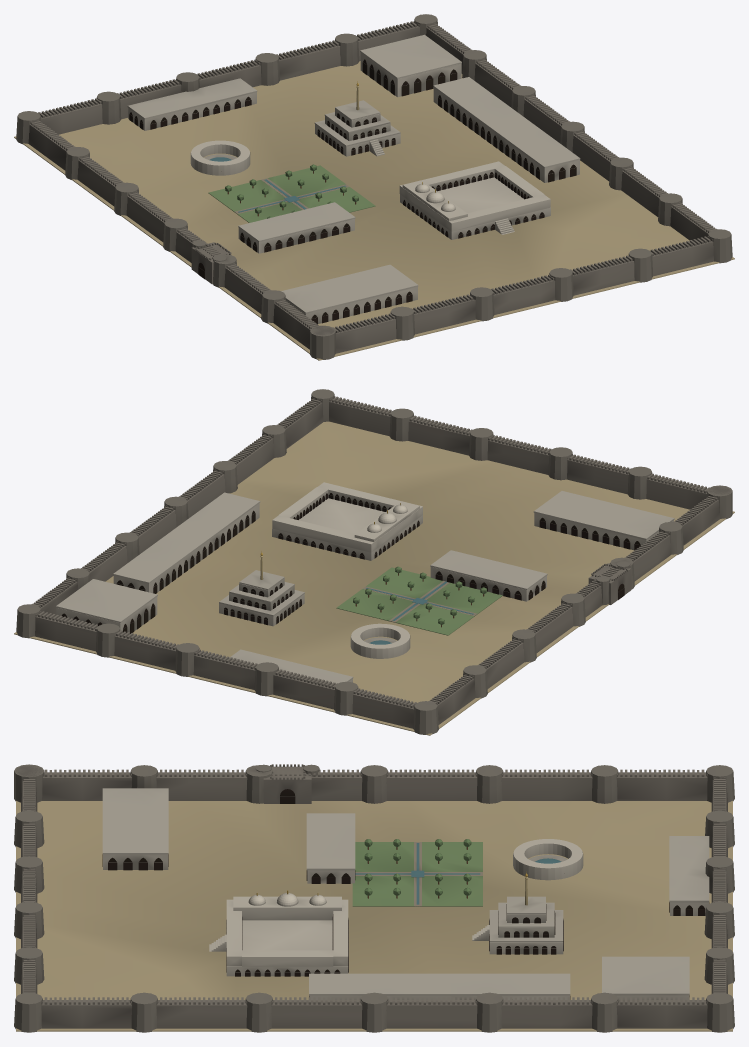
Rendered from kotla.glb.
The picture shows the model from 3 angles, top to bottom: view 1: azimuth 30°, elevation 25°; view 2: azimuth 150°, elevation 25°; view 3: azimuth 270°, elevation 25°; orthographic projection. The views are drawn at different scales.
Parts seen in each view (by area): view 1: p0_walls, p2_pillar, p1_mosque; view 2: p0_walls, p2_pillar, p1_mosque; view 3: p0_walls, p2_pillar, p1_mosque, p3_domes.
Boxes of the visible parts, <box> form: p0_walls: <box>14,14,734,360</box>; p2_pillar: <box>127,34,580,324</box>; p1_mosque: <box>190,140,550,239</box>; p0_walls: <box>14,389,734,735</box>; p2_pillar: <box>56,491,674,683</box>; p1_mosque: <box>272,482,422,658</box>; p0_walls: <box>14,764,734,1032</box>; p2_pillar: <box>102,788,709,999</box>; p1_mosque: <box>209,839,583,976</box>; p3_domes: <box>248,890,326,906</box>.
Bounding box in the file's own units: 262 × 35.14 × 332.
